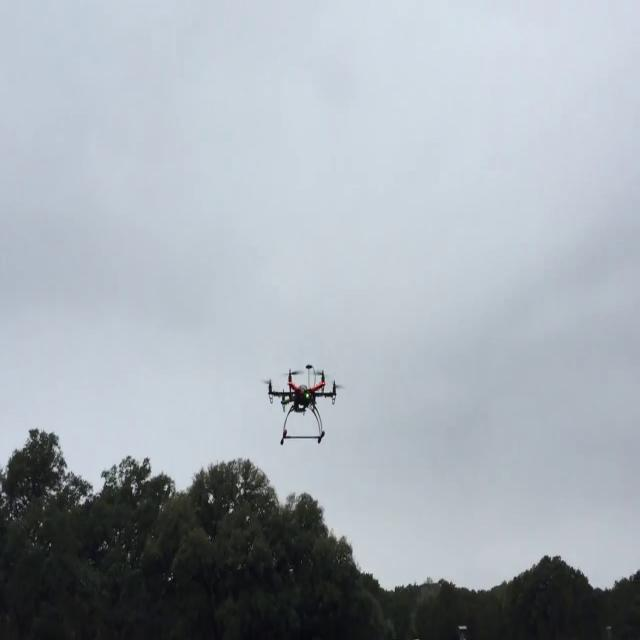drone: (260, 354, 350, 456)
